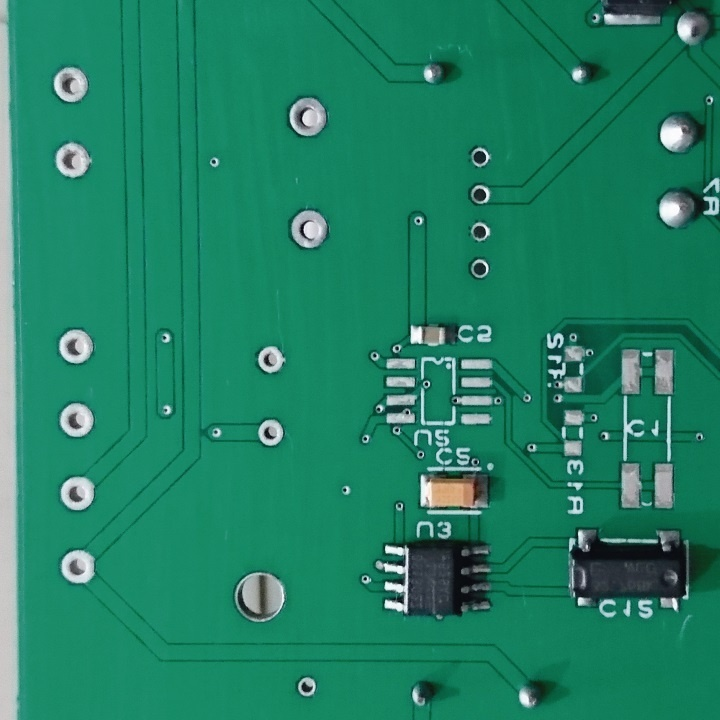F: (284, 94, 331, 141), (287, 206, 329, 253), (55, 546, 100, 587), (53, 138, 96, 180), (55, 473, 98, 515), (50, 63, 90, 105), (54, 328, 96, 366), (58, 400, 96, 441), (254, 344, 289, 376), (257, 418, 286, 446), (467, 255, 493, 280), (467, 181, 493, 205), (468, 218, 491, 243), (296, 675, 319, 699), (467, 145, 490, 168)
